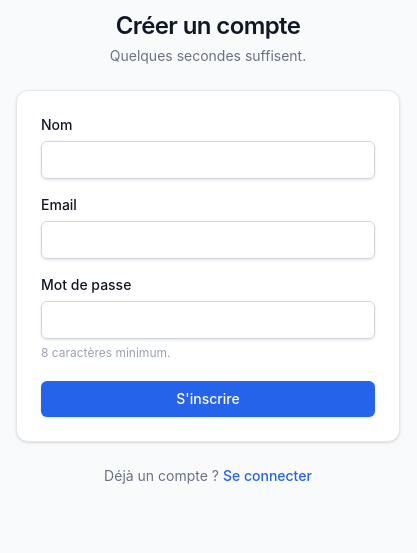
Test: SignupForm › affiche l’erreur rendue par l’action
The image size is (417, 553).
Type "Doublon" into the field labelled "Nom" at (208, 160), box [41,141,375,179]
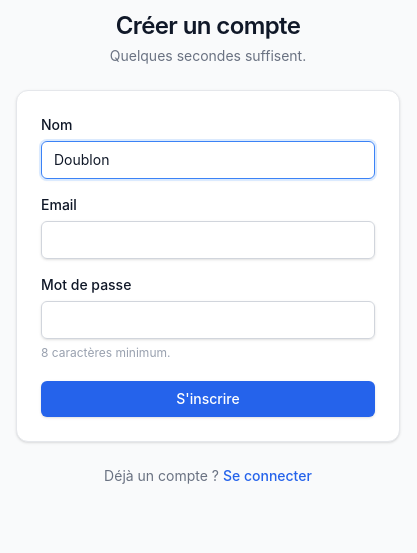
Type "deja@acme.test" into the field labelled "Email" at (208, 240), box [41,221,375,259]
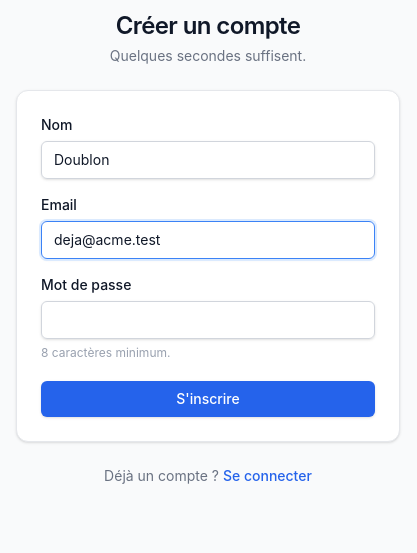
Type "mot-de-passe-1" into the password field labelled "Mot de passe" at (208, 320), box [41,301,375,339]
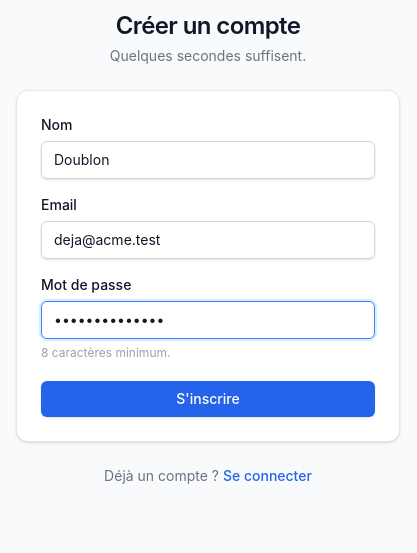
Click the button "S'inscrire" at (208, 399), box [41,381,375,417]
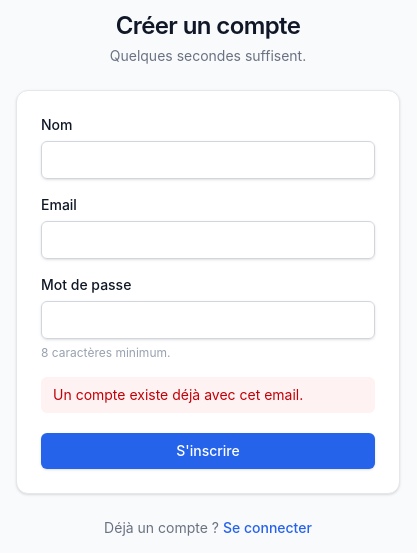
Expected: the message reads "Un compte existe déjà avec cet email.", [53,386,303,403]
